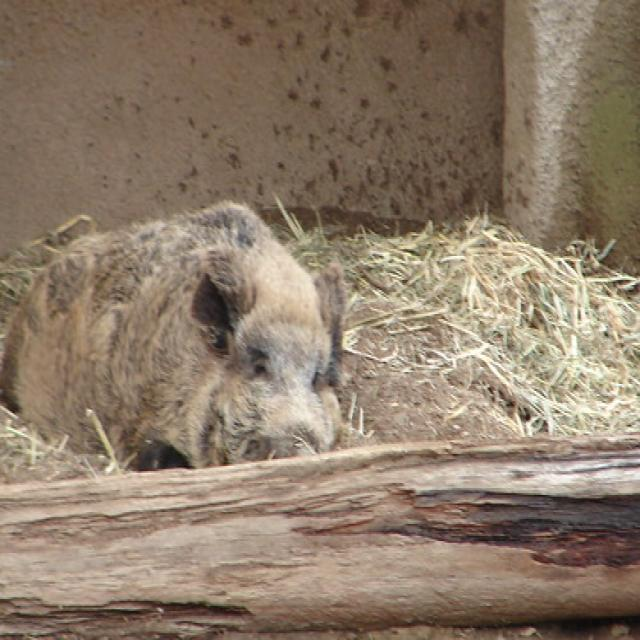boar: (0, 193, 368, 508)
